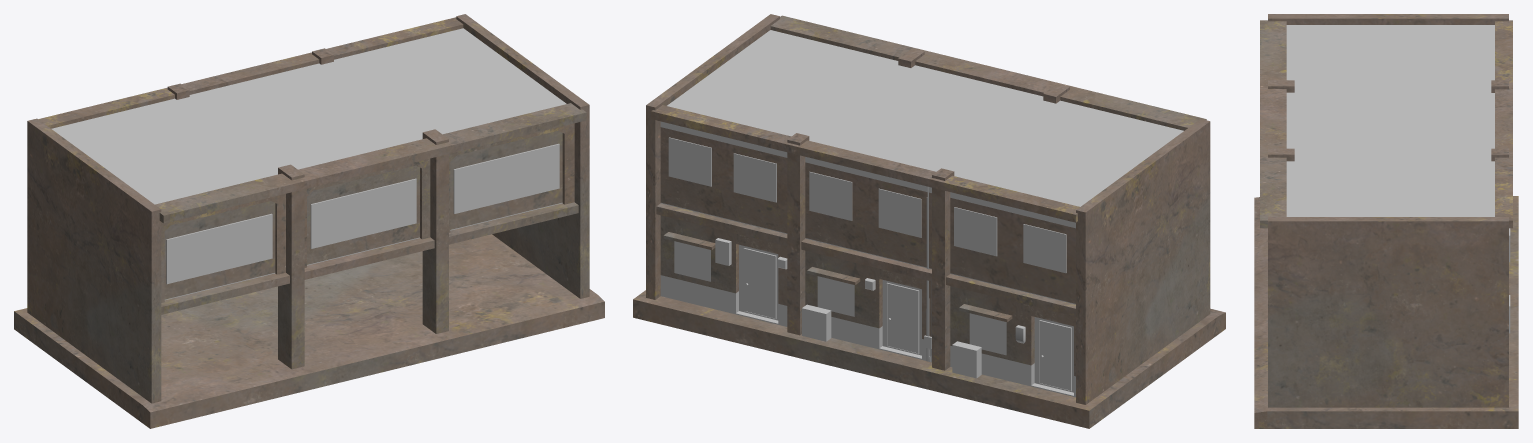
File: gmallbil_3x2_2_in.fbx
3 views of the same model, side by side, from view 1: azimuth 30°, elevation 25°; view 2: azimuth 150°, elevation 25°; view 3: azimuth 270°, elevation 25° (orthographic). The views are drawn at different scales.
Visible parts, largest first — view 1: gmallbil_3x2_2_in; view 2: gmallbil_3x2_2_in; view 3: gmallbil_3x2_2_in.
Boxes of the visible parts, x1,y1,x2,y2 form: gmallbil_3x2_2_in: [14, 14, 604, 428]; gmallbil_3x2_2_in: [633, 14, 1225, 428]; gmallbil_3x2_2_in: [1254, 14, 1518, 428].
Bounding box in the file's own units: 1797 × 793 × 932.
